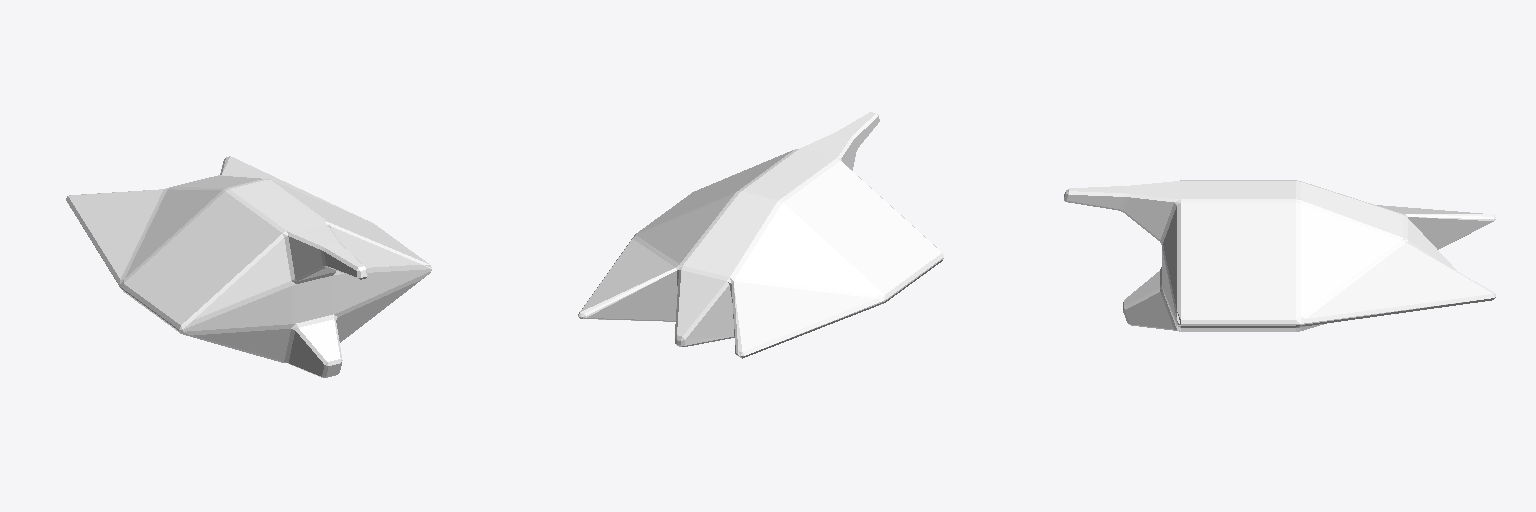
Rendered from Regret-Shield.obj.
3 renders of one model, left to right at view 1: azimuth 30°, elevation 25°; view 2: azimuth 150°, elevation 25°; view 3: azimuth 270°, elevation 25°, orthographic.
Parts seen in each view (by area): view 1: octotoad2_default_def; view 2: octotoad2_default_def; view 3: octotoad2_default_def.
Boxes of the visible parts, box(x1,y1,x2,y2) form: octotoad2_default_def: box(66, 156, 431, 377); octotoad2_default_def: box(578, 112, 943, 358); octotoad2_default_def: box(1064, 180, 1495, 331).
Size of the model in its own units: 10.17 by 5.09 by 15.05.